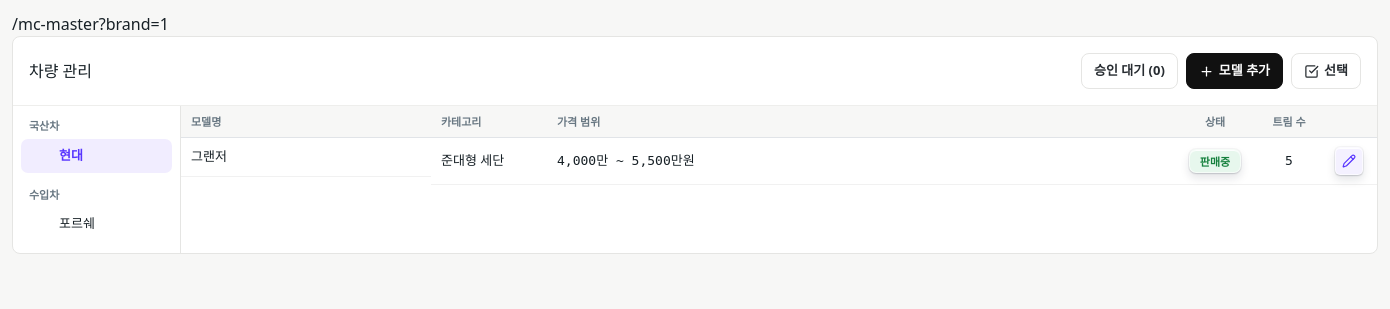
Test: 모델 클릭 시 트림 리스트로 드릴다운
The width and height of the screenshot is (1390, 309).
Click the text "그랜저".
click(209, 157)  # box [191, 147, 227, 166]
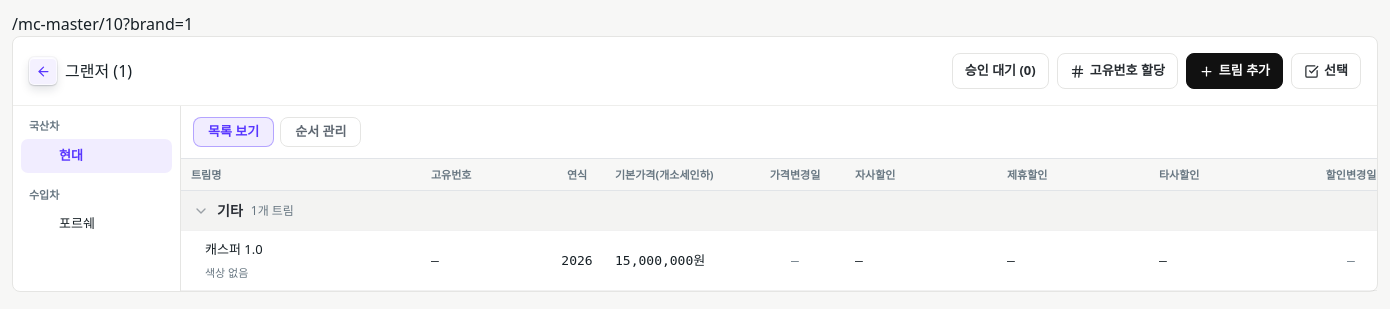
Now the text "캐스퍼 1.0" is shown, box [205, 240, 263, 258]
Now the button "트림 추가" is shown, box [1186, 53, 1283, 89]
